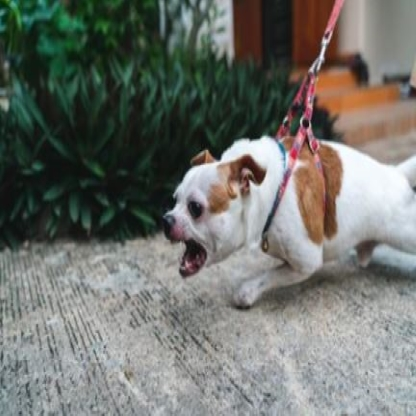chihuahua: (161, 132, 416, 313)
